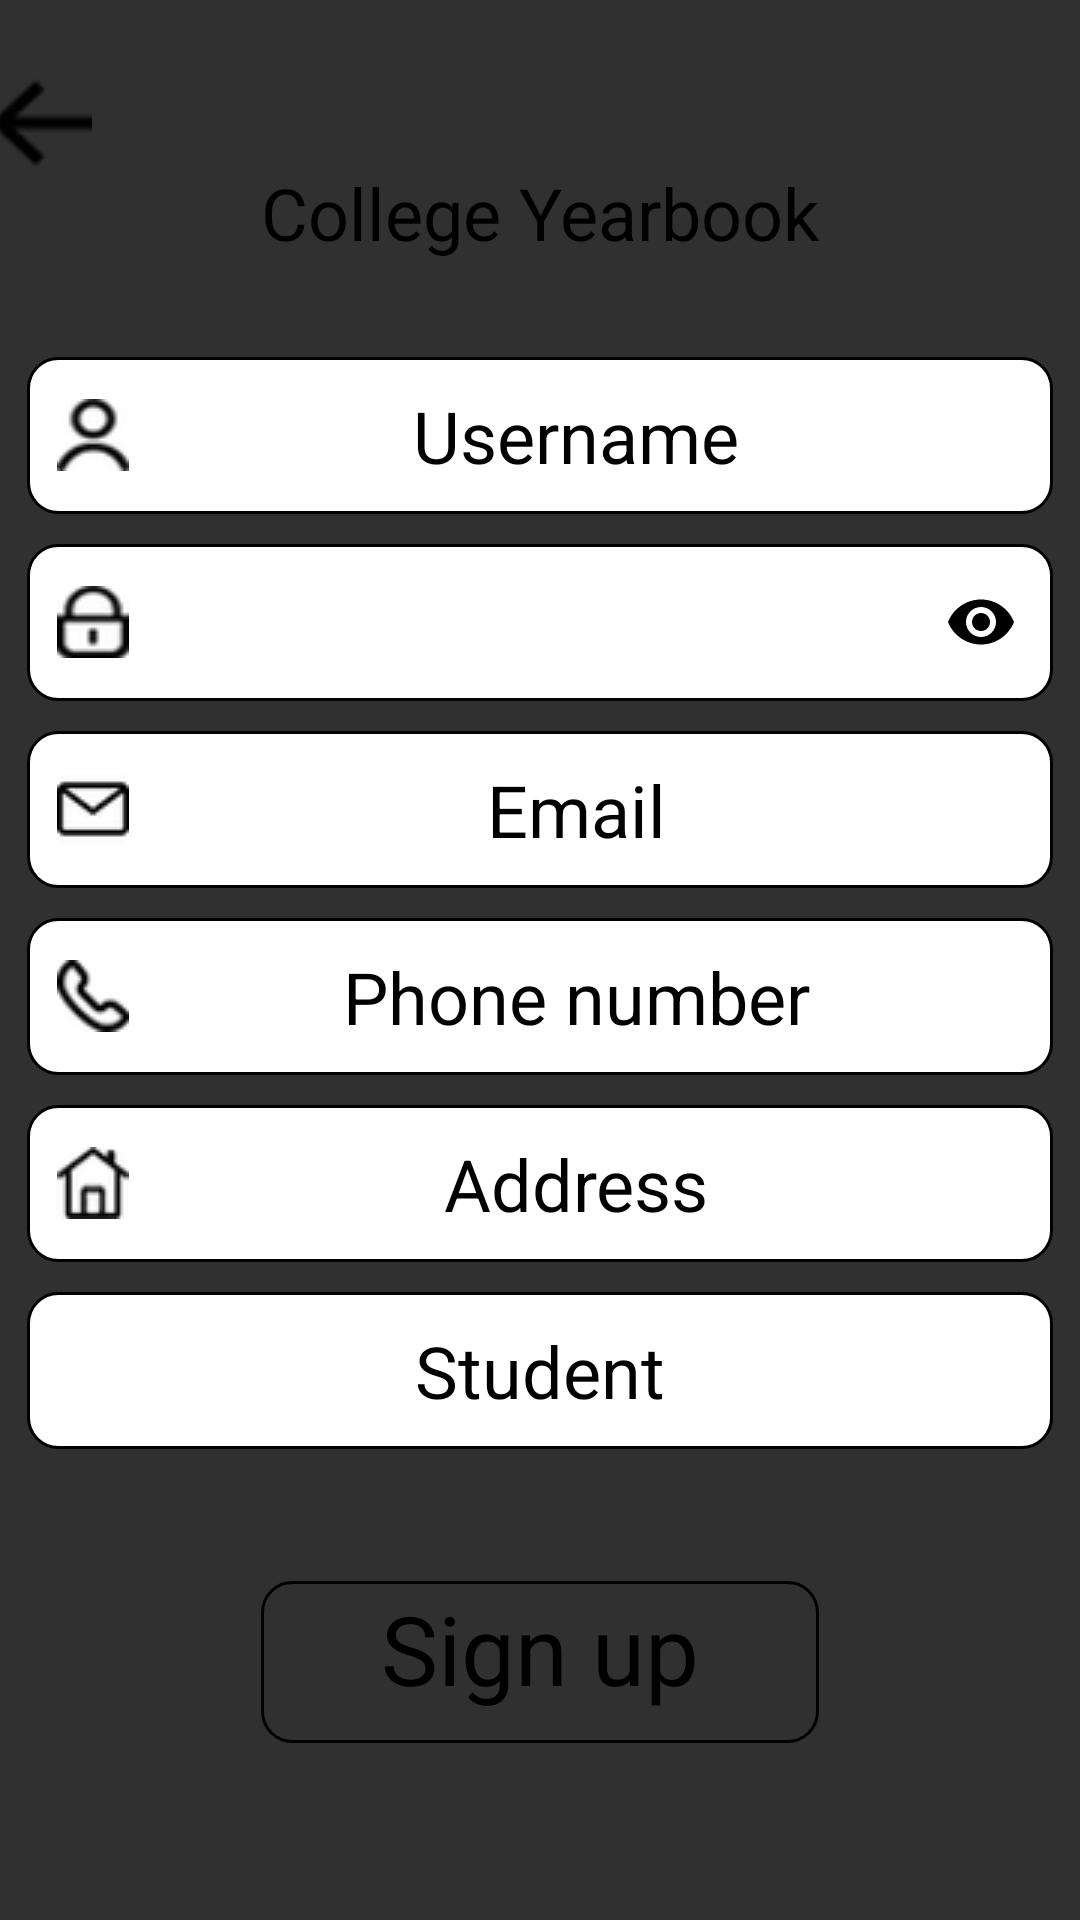

Named icons in this screenshot (1080×1920) and their centers, point (x, y):
Back to pre layout: point (46, 123)
